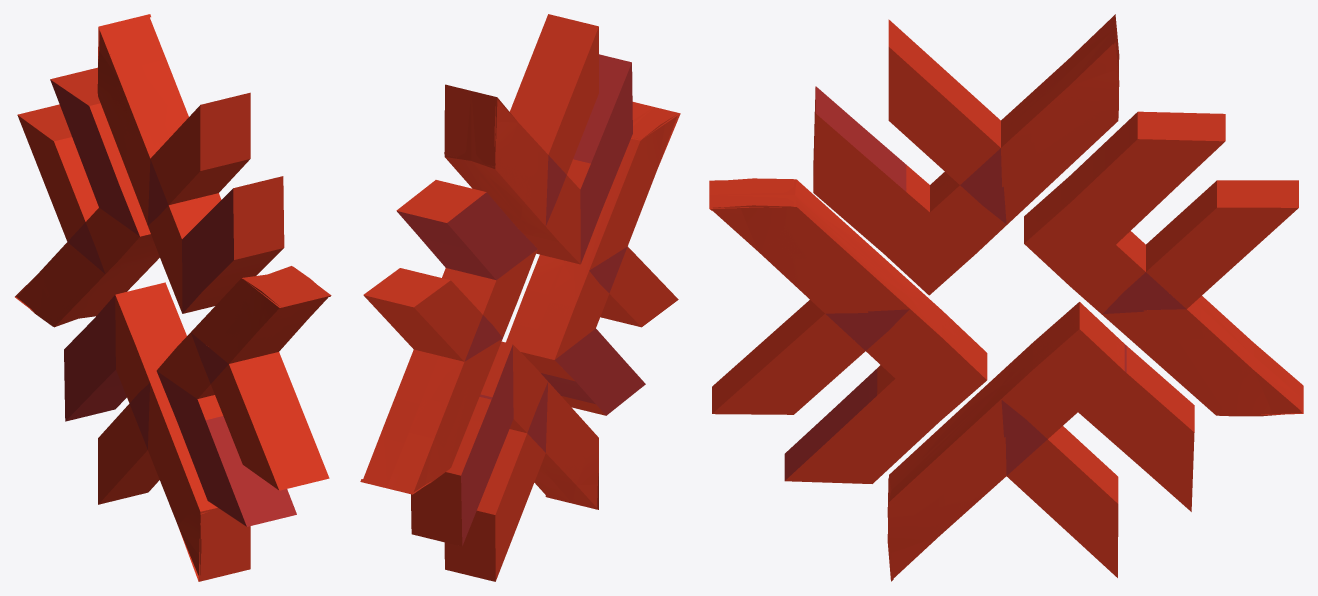
Rendered from fanshawe-transformed.glb.
3 renders of one model, left to right at view 1: azimuth 30°, elevation 25°; view 2: azimuth 150°, elevation 25°; view 3: azimuth 270°, elevation 25°, orthographic. The views are drawn at different scales.
Visible parts, largest first — view 1: Cube.002; view 2: Cube.002; view 3: Cube.002.
Part boxes in pixels (x1=…): Cube.002: x1=15, y1=14, x2=331, y2=581; Cube.002: x1=360, y1=14, x2=680, y2=581; Cube.002: x1=709, y1=14, x2=1303, y2=581.
Size of the model in its own units: 0.5695 by 5.06 by 5.05.
